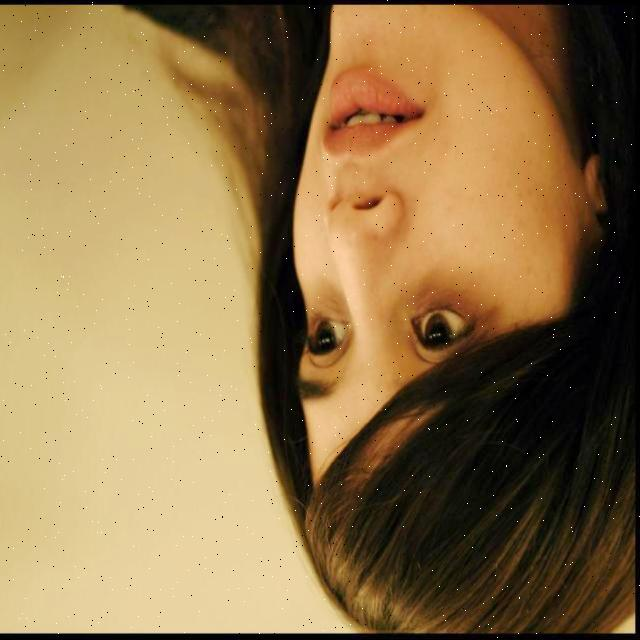puffy_eyes: (409, 271, 475, 318), (304, 283, 350, 319)
